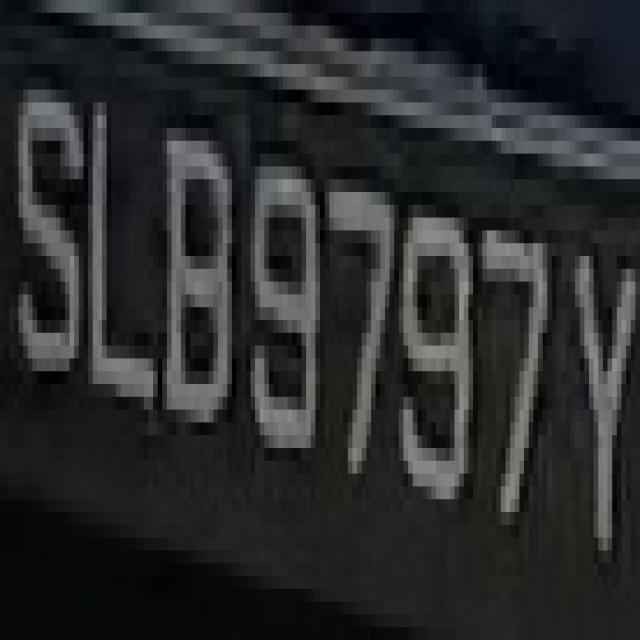7: (473, 166, 561, 564), (306, 141, 390, 486)
9: (390, 141, 482, 550), (241, 154, 325, 474)
B: (158, 90, 241, 460)
L: (84, 77, 162, 422)
S: (14, 26, 83, 410)
Y: (562, 192, 636, 563)
